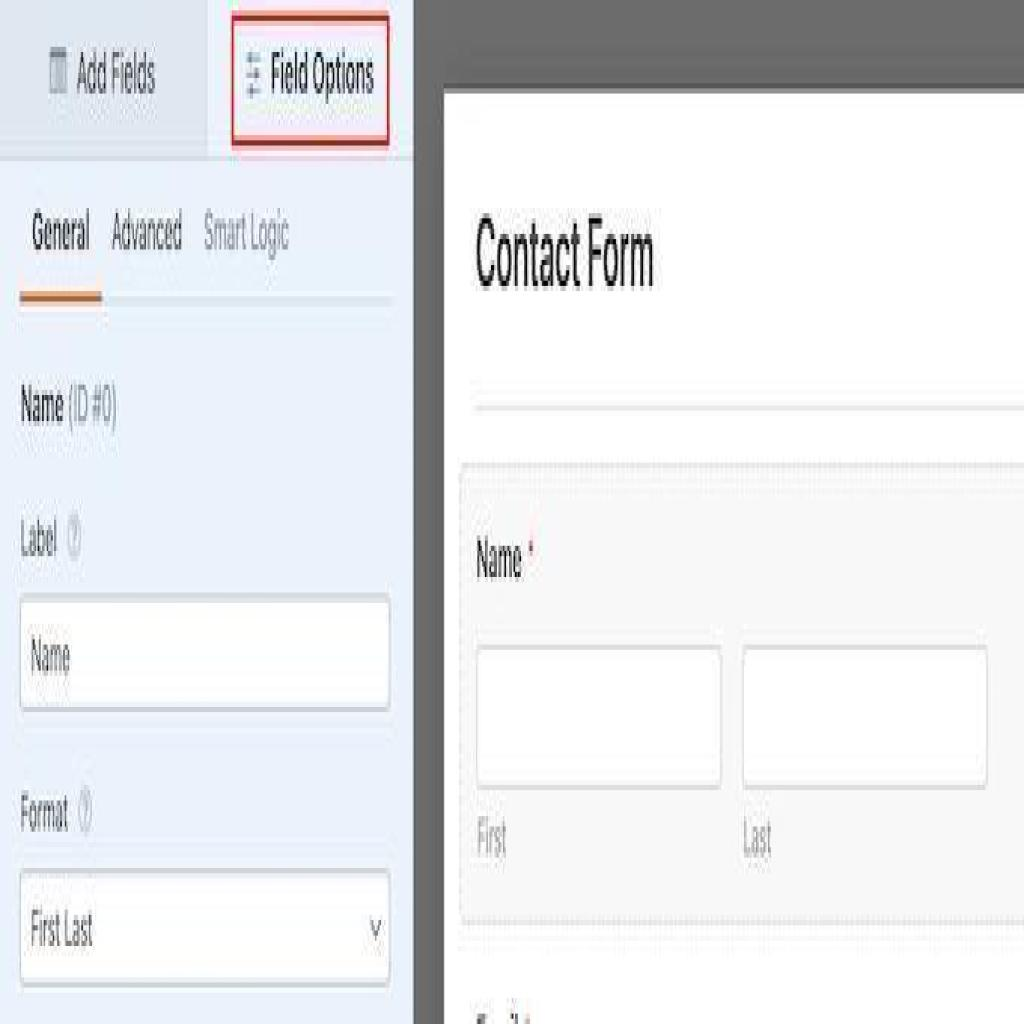button: (210, 0, 414, 166), (0, 0, 209, 156), (19, 166, 104, 302)
dropdown: (23, 868, 390, 982)
input: (20, 598, 392, 712), (744, 655, 983, 806), (479, 650, 723, 795)
label: (473, 192, 659, 307), (12, 358, 125, 458), (200, 192, 292, 276), (472, 525, 546, 624), (112, 192, 186, 276), (16, 774, 74, 858), (17, 494, 63, 572), (740, 811, 778, 884), (473, 800, 510, 874)
